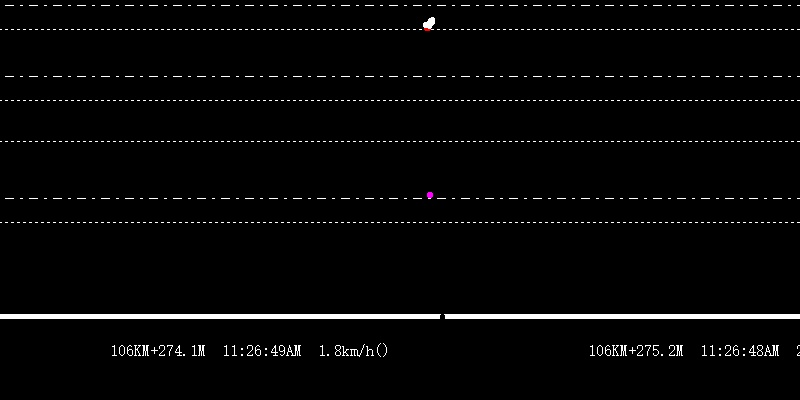face_s: (422, 16, 439, 32)
